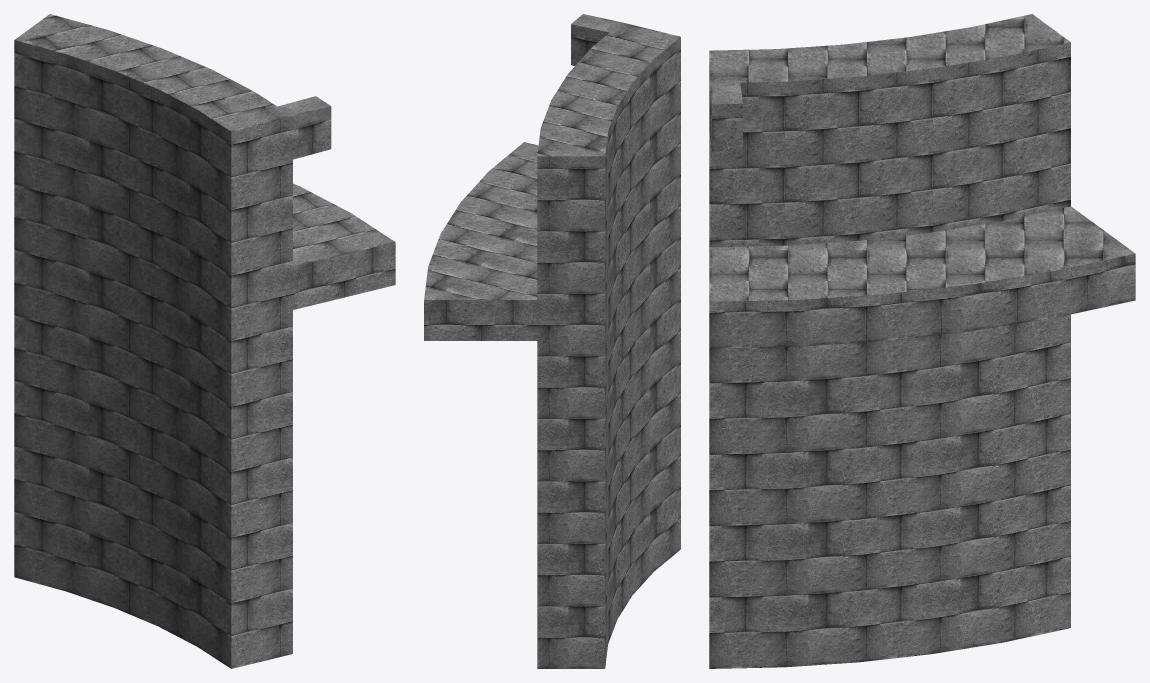
The model's file is tile3.dae.
3 views of the same model, side by side, from view 1: azimuth 30°, elevation 25°; view 2: azimuth 150°, elevation 25°; view 3: azimuth 270°, elevation 25° (orthographic). The views are drawn at different scales.
Parts seen in each view (by area): view 1: SketchUp (×2); view 2: SketchUp (×2); view 3: SketchUp.
Part boxes in pixels (box(x1,y1,x2,y2)): SketchUp (×2): box(14, 14, 395, 668); SketchUp (×2): box(424, 14, 680, 668); SketchUp: box(709, 14, 1135, 668).
Size of the model in its own units: 44.68 by 64.96 by 98.43.
1 material, 1 textured.
